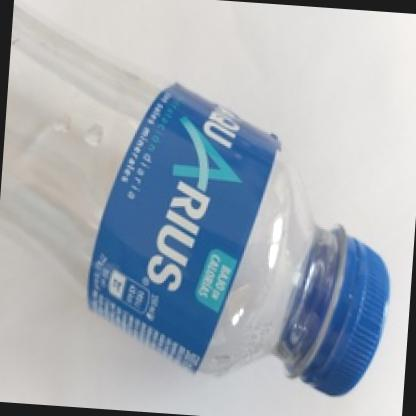plastic_bottles: (0, 4, 412, 407)
